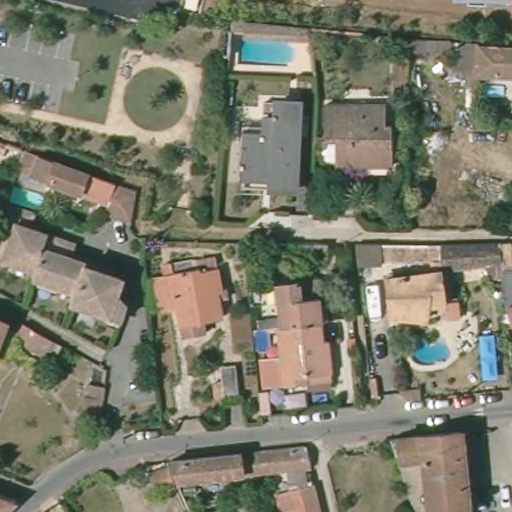pool: (233, 30, 304, 71), (407, 333, 458, 371), (7, 186, 54, 213), (477, 77, 512, 99), (248, 329, 278, 354)
